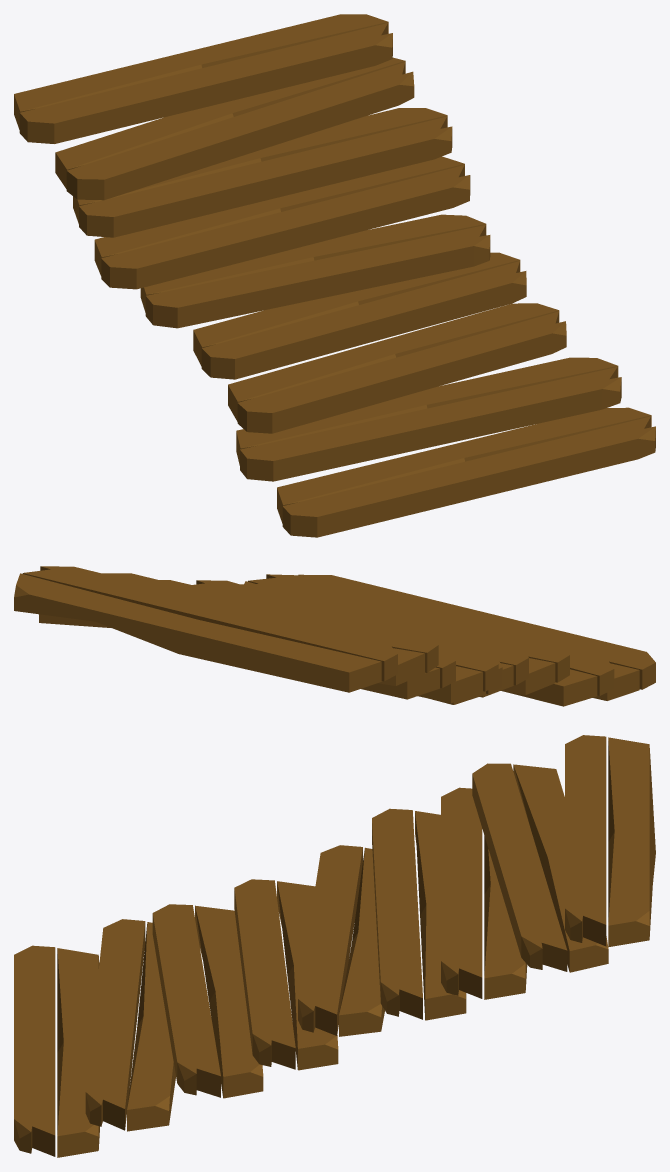
Rendered from wooden Staircase.fbx.
3 renders of one model, top to bottom at view 1: azimuth 30°, elevation 25°; view 2: azimuth 150°, elevation 25°; view 3: azimuth 270°, elevation 25°, orthographic. The views are drawn at different scales.
Parts seen in each view (by area): view 1: WoodenStaircase; view 2: WoodenStaircase; view 3: WoodenStaircase.
Boxes of the visible parts, box(x1,y1,x2,y2) form: WoodenStaircase: box(14, 14, 655, 537); WoodenStaircase: box(14, 566, 655, 706); WoodenStaircase: box(14, 735, 655, 1157).
Size of the model in its own units: 1028 by 568 by 1424.
